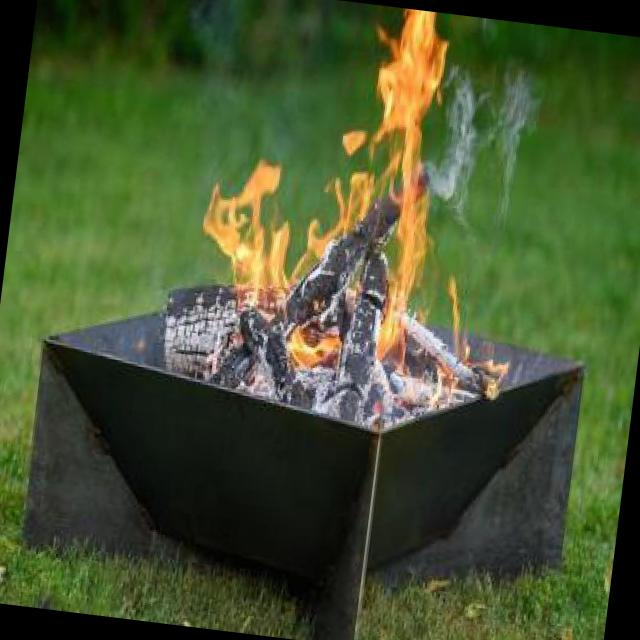Fire: (184, 0, 457, 391)
Smoke: (434, 42, 552, 242)
